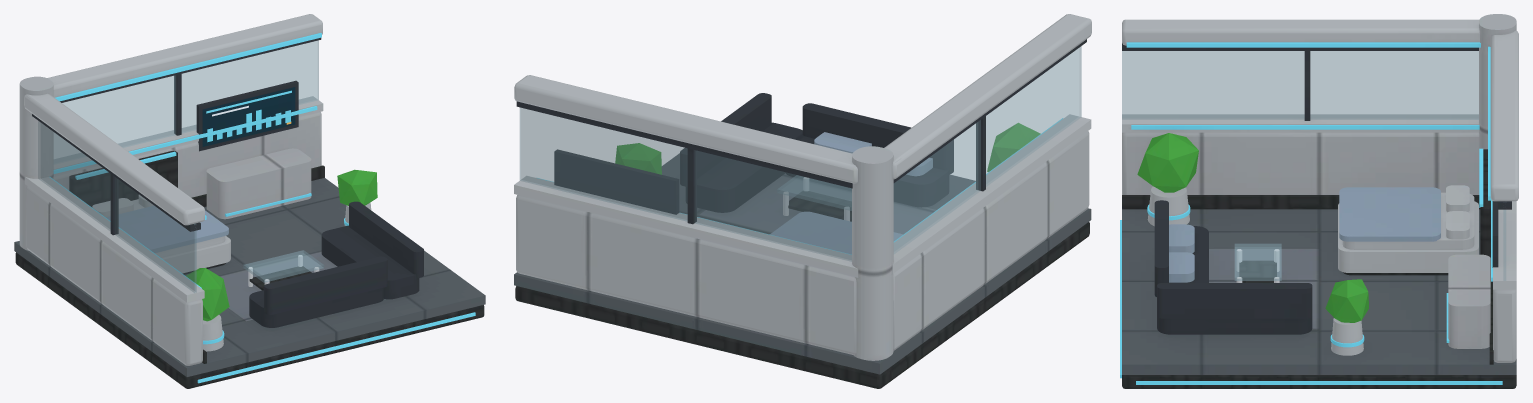
Rendered from enterprise_habitat_t4.glb.
3 renders of one model, left to right at view 1: azimuth 30°, elevation 25°; view 2: azimuth 150°, elevation 25°; view 3: azimuth 270°, elevation 25°, orthographic. The views are drawn at different scales.
Visible parts, largest first — view 1: te_enterprise_habitat_t4; view 2: te_enterprise_habitat_t4; view 3: te_enterprise_habitat_t4.
Part boxes in pixels (x1,y1,x2,y2): te_enterprise_habitat_t4: (14,14,485,388); te_enterprise_habitat_t4: (514,14,1091,388); te_enterprise_habitat_t4: (1120,14,1518,388).
Bounding box in the file's own units: 0.849 × 0.492 × 0.849.
2 materials, 1 textured.
